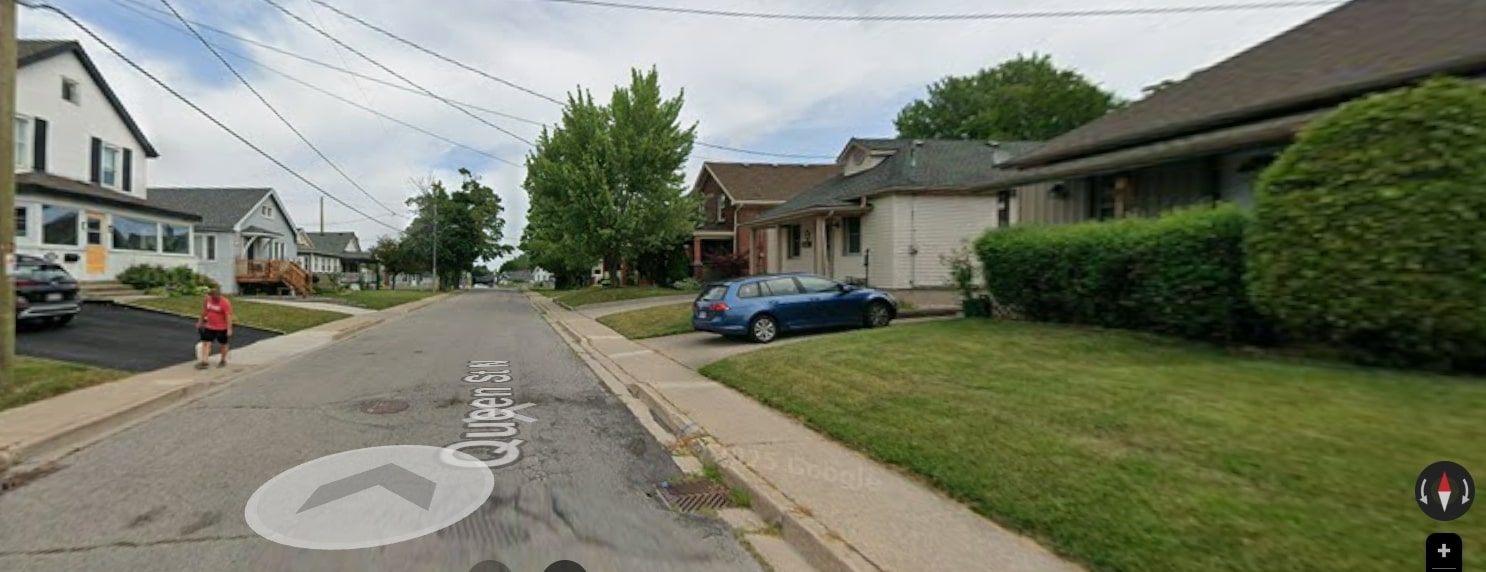cracks: (430, 391, 541, 420)
pothole: (545, 368, 693, 473)
